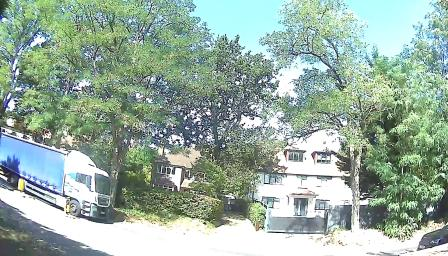Cars: (1, 130, 122, 223)
